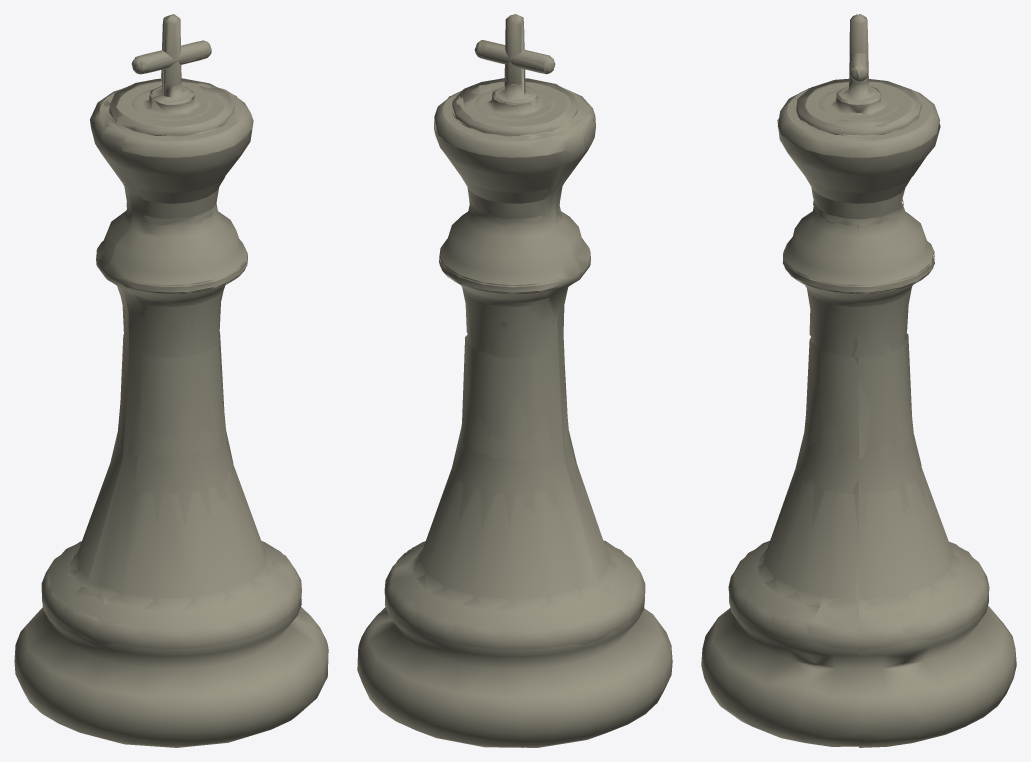
The model's file is King.FBX.
3 renders of one model, left to right at view 1: azimuth 30°, elevation 25°; view 2: azimuth 150°, elevation 25°; view 3: azimuth 270°, elevation 25°, orthographic.
Parts seen in each view (by area): view 1: King; view 2: King; view 3: King.
Part boxes in pixels (x1,y1,x2,y2): King: (14,14,328,747); King: (357,14,672,747); King: (701,14,1016,747).
Size of the model in its own units: 134 by 321 by 134.
